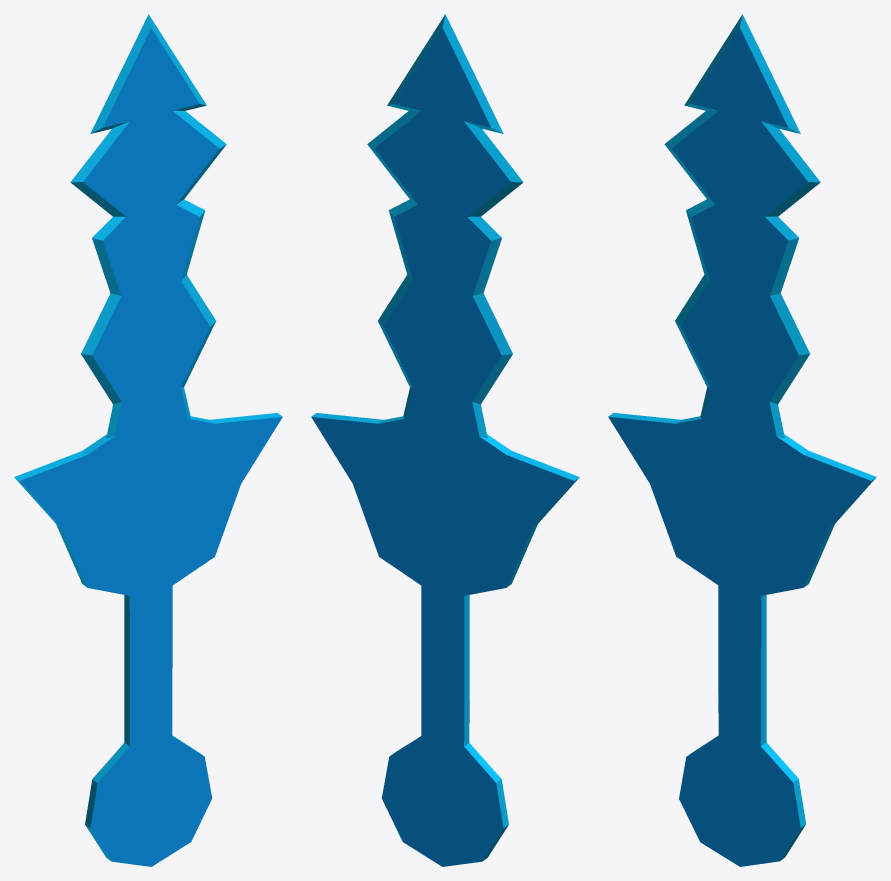
Rendered from 18-Geometric.glb.
3 views of the same model, side by side, from view 1: azimuth 30°, elevation 25°; view 2: azimuth 150°, elevation 25°; view 3: azimuth 330°, elevation 25° (orthographic).
Visible parts, largest first — view 1: 18-Geometric; view 2: 18-Geometric; view 3: 18-Geometric.
Part boxes in pixels (<box>): 18-Geometric: <box>14,14,282,866</box>; 18-Geometric: <box>311,14,579,866</box>; 18-Geometric: <box>608,14,876,866</box>.
Size of the model in its own units: 0.1845 by 0.5696 by 0.00661.
